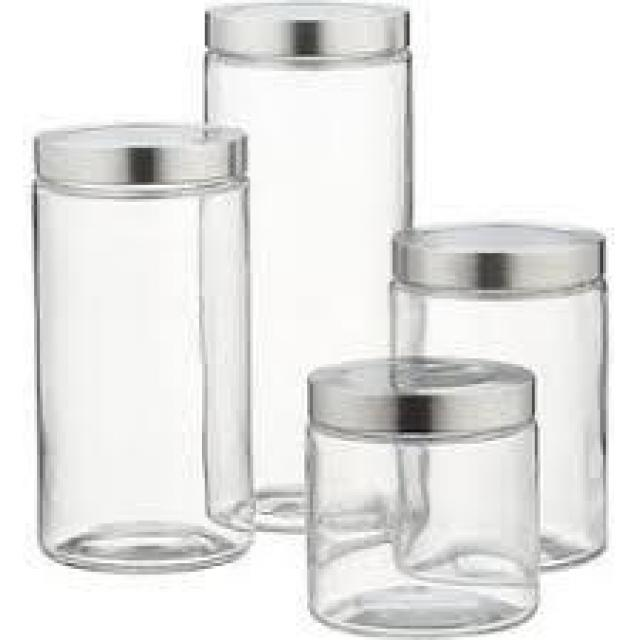non-organic waste: (24, 117, 260, 580), (303, 351, 542, 636)
